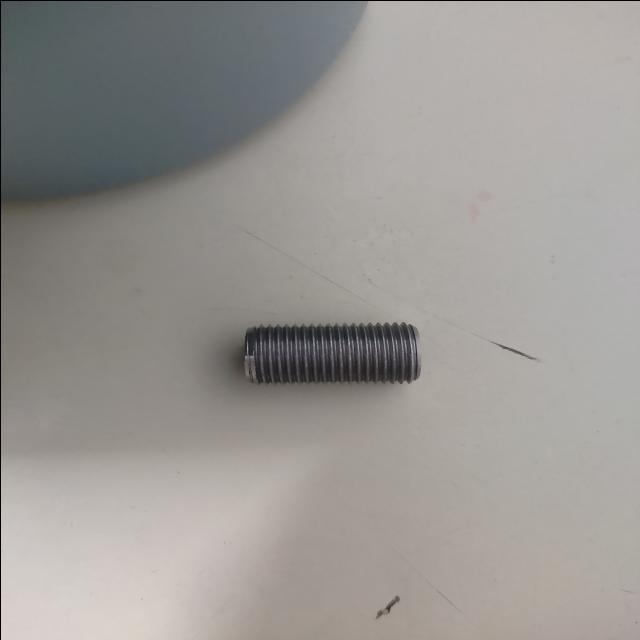Normal: (243, 320, 421, 386)
